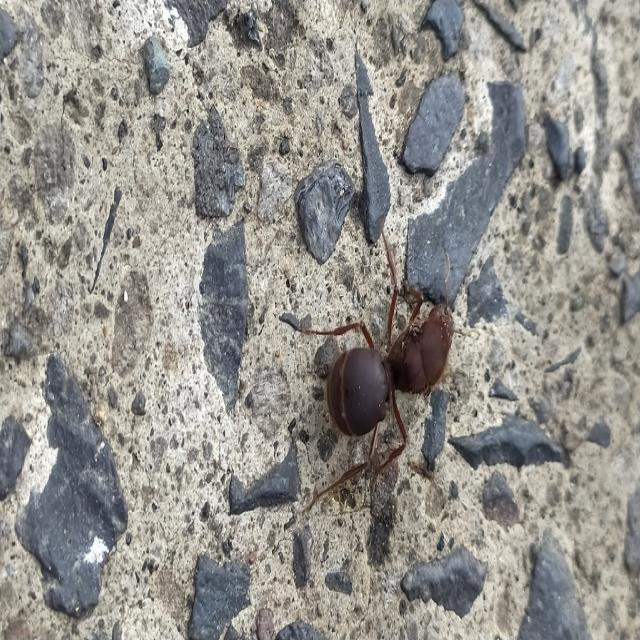Alive-Female-Dealate: (302, 218, 474, 512)
